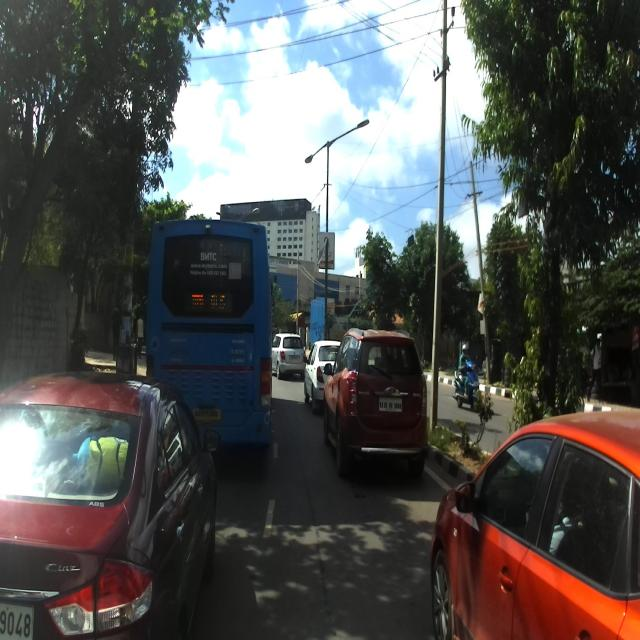Car_Mahindra: (322, 326, 429, 478)
Car_Maruti-Suzuki: (0, 371, 221, 638)
Car_Skoda: (271, 331, 306, 381)
Car_TATA: (303, 338, 342, 415)
Car_Volkswagen: (428, 409, 640, 638)
bus: (144, 214, 273, 463)
scooter: (450, 352, 480, 410)
